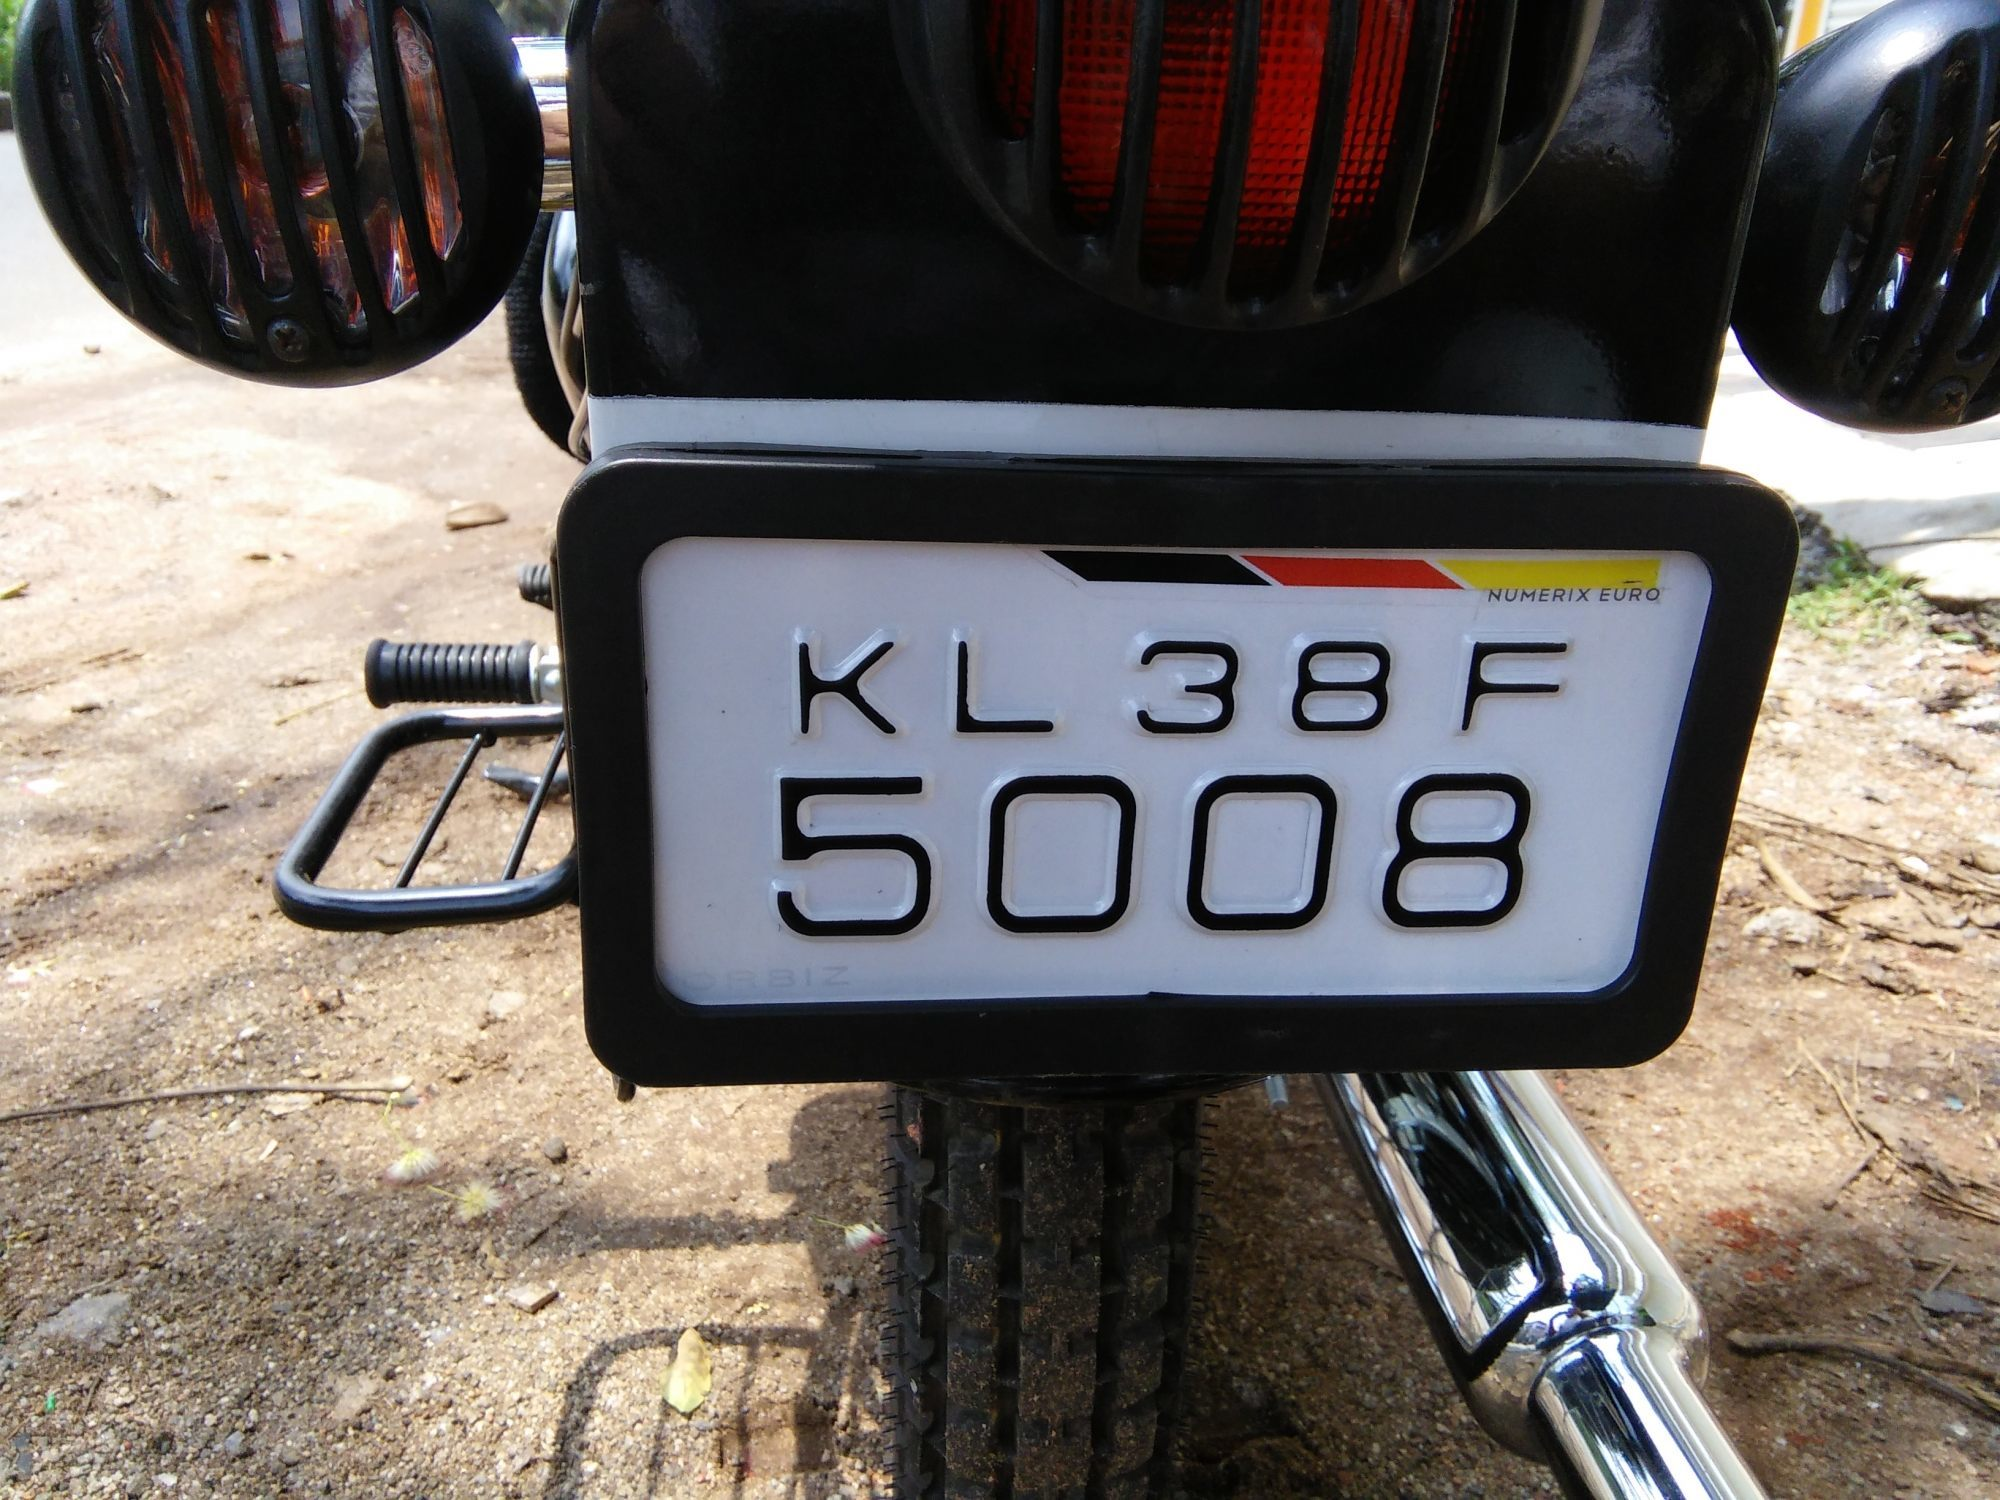number_plate: (555, 441, 1745, 1079)
